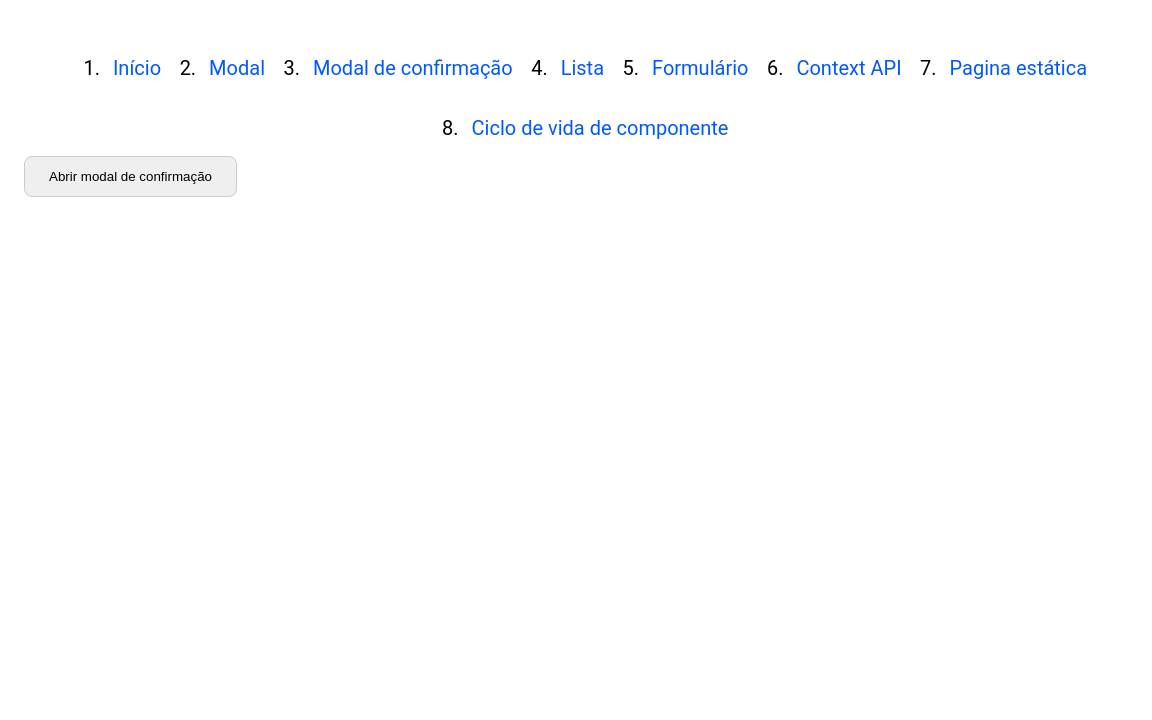
it: confirm modal › confirm modal confirmation should work correctly
Click the button with id "open-modal".
click(131, 177)  # box [24,156,237,197]
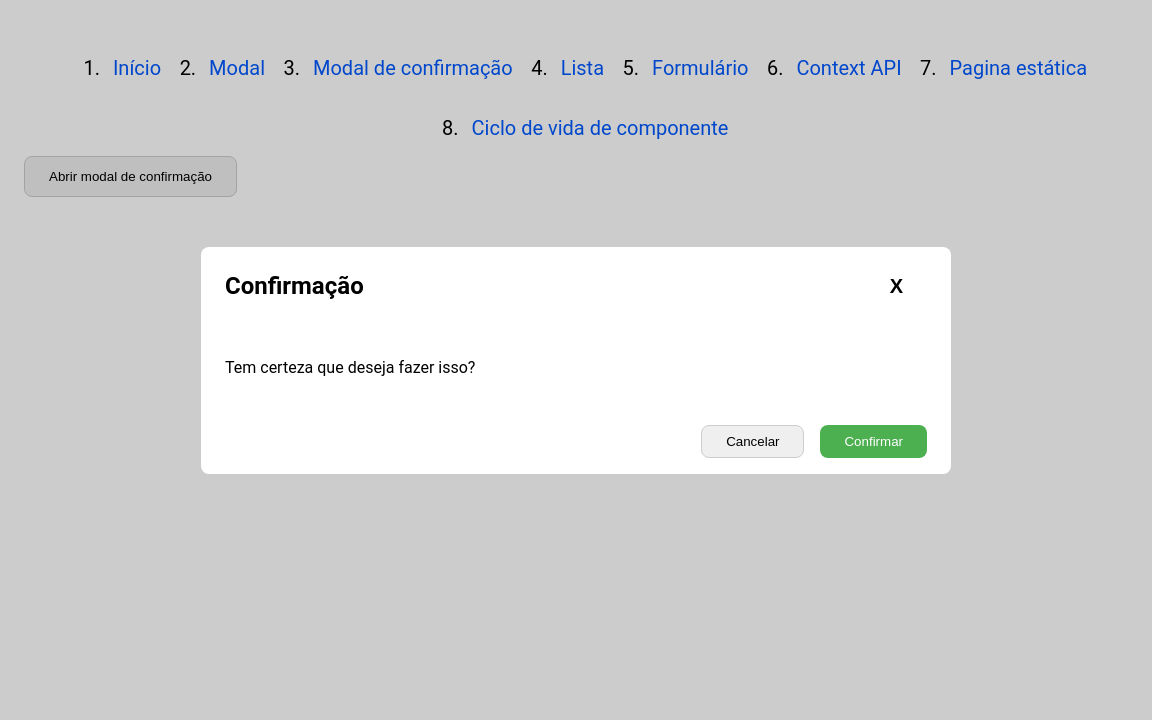
Result: the dialog is shown at [201,247,951,474]
Click the button "Confirmar".
click(875, 442)  # box [821,425,928,458]
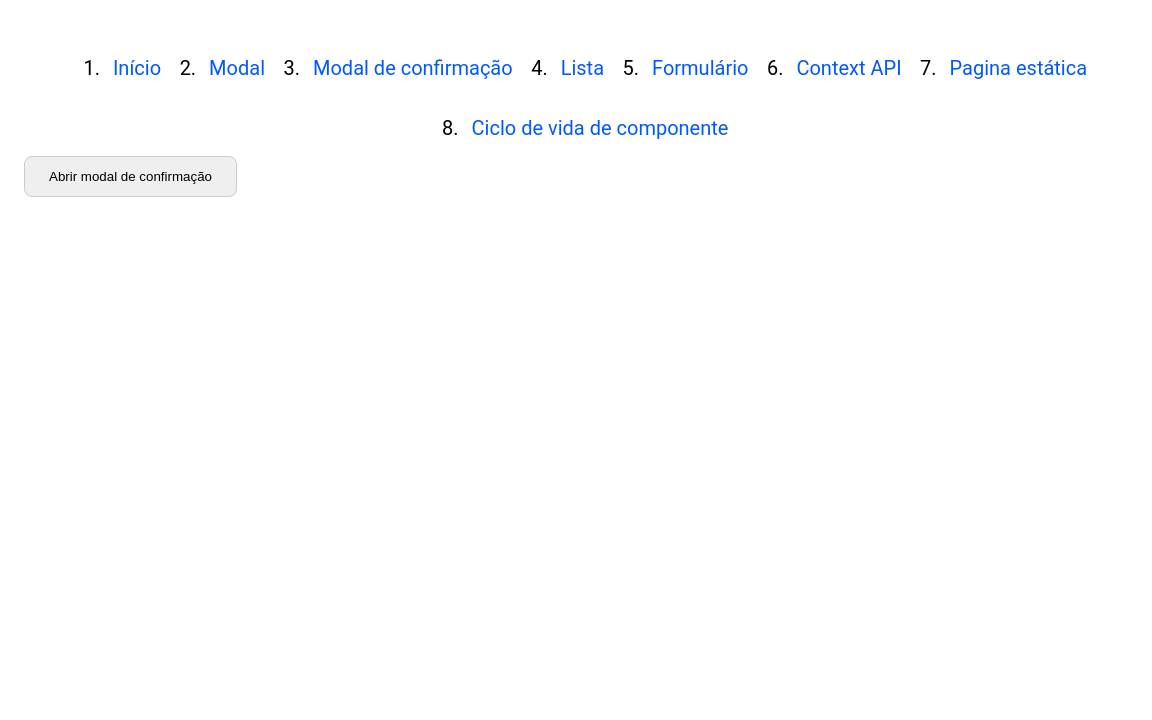
Result: the dialog is gone
